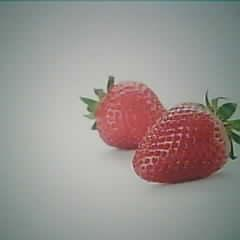straw-ripe: (133, 104, 233, 183)
